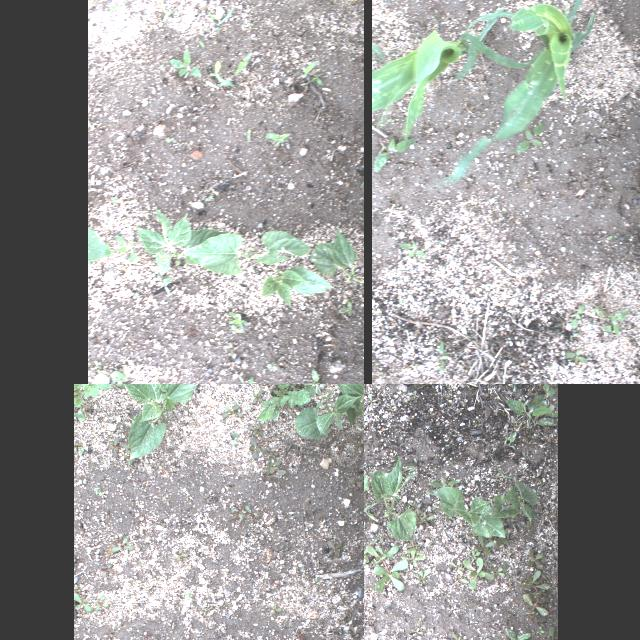crop: (428, 0, 607, 189), (372, 8, 542, 138), (422, 474, 538, 544), (136, 204, 222, 276), (180, 230, 306, 274), (117, 384, 194, 456), (371, 456, 421, 542), (293, 384, 359, 444), (260, 264, 334, 308), (310, 230, 364, 282), (504, 384, 555, 429), (87, 223, 113, 260), (364, 462, 376, 534), (371, 42, 387, 64)
weed: (448, 536, 506, 586), (257, 384, 323, 421), (520, 566, 552, 618), (73, 384, 116, 422), (372, 137, 414, 171), (369, 556, 406, 592), (515, 122, 545, 154), (174, 46, 202, 78), (94, 359, 128, 384), (408, 500, 438, 526), (208, 58, 235, 86), (602, 307, 628, 335), (402, 538, 426, 568), (489, 451, 509, 482), (498, 623, 533, 640), (114, 233, 136, 260), (448, 406, 464, 442), (366, 543, 398, 561), (226, 310, 248, 336), (411, 563, 433, 589), (409, 609, 427, 639), (533, 618, 557, 640), (522, 548, 548, 568), (502, 424, 522, 450), (398, 240, 426, 258), (568, 302, 586, 328), (325, 538, 345, 558), (107, 434, 121, 462), (249, 433, 263, 459), (441, 629, 474, 640), (564, 347, 586, 363), (110, 537, 132, 553), (74, 591, 90, 613), (364, 393, 381, 413), (402, 388, 426, 402), (233, 371, 258, 384), (223, 402, 243, 418), (265, 132, 291, 144), (438, 342, 448, 372), (307, 367, 324, 384), (236, 53, 250, 73), (271, 540, 285, 560), (94, 594, 108, 612), (348, 471, 364, 486), (338, 300, 352, 316), (301, 62, 317, 76), (244, 503, 258, 519), (230, 506, 246, 520), (266, 467, 286, 477), (176, 543, 188, 559), (471, 414, 483, 430), (364, 538, 370, 569), (248, 424, 266, 434), (351, 438, 364, 451), (268, 442, 280, 456), (250, 392, 264, 404), (266, 360, 278, 372), (91, 485, 103, 497), (591, 307, 605, 317), (230, 431, 240, 445), (124, 453, 134, 467), (202, 491, 214, 502), (266, 457, 282, 465), (310, 75, 322, 85), (269, 603, 279, 615), (314, 575, 324, 587), (74, 438, 82, 452), (184, 589, 193, 601), (129, 414, 139, 424), (340, 455, 346, 471), (295, 631, 305, 640), (78, 444, 85, 456), (264, 433, 272, 442), (123, 438, 129, 450), (73, 582, 81, 590), (114, 384, 123, 391), (200, 604, 207, 610), (361, 564, 364, 577), (386, 118, 394, 122)
